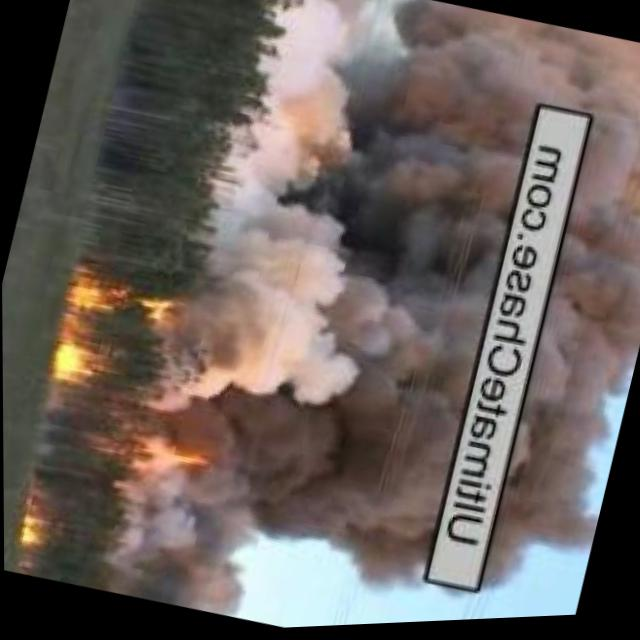Fire: (45, 263, 190, 406), (117, 425, 230, 488), (16, 502, 70, 549)
